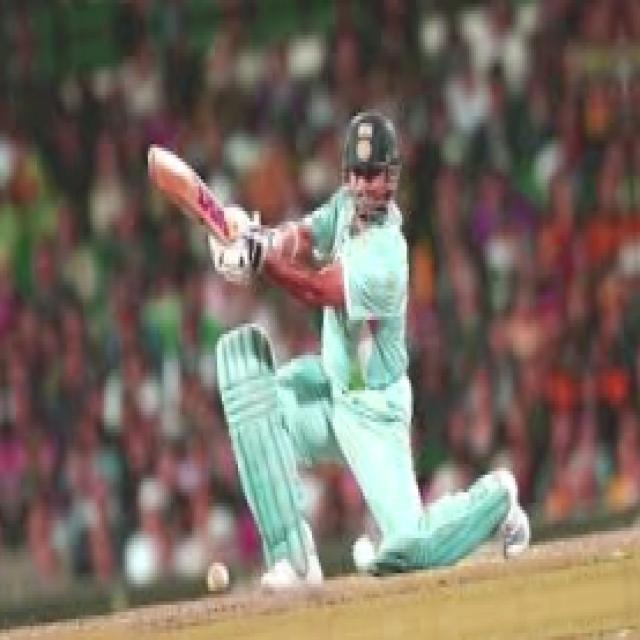bat: (127, 145, 245, 225)
toe: (126, 148, 176, 182)
